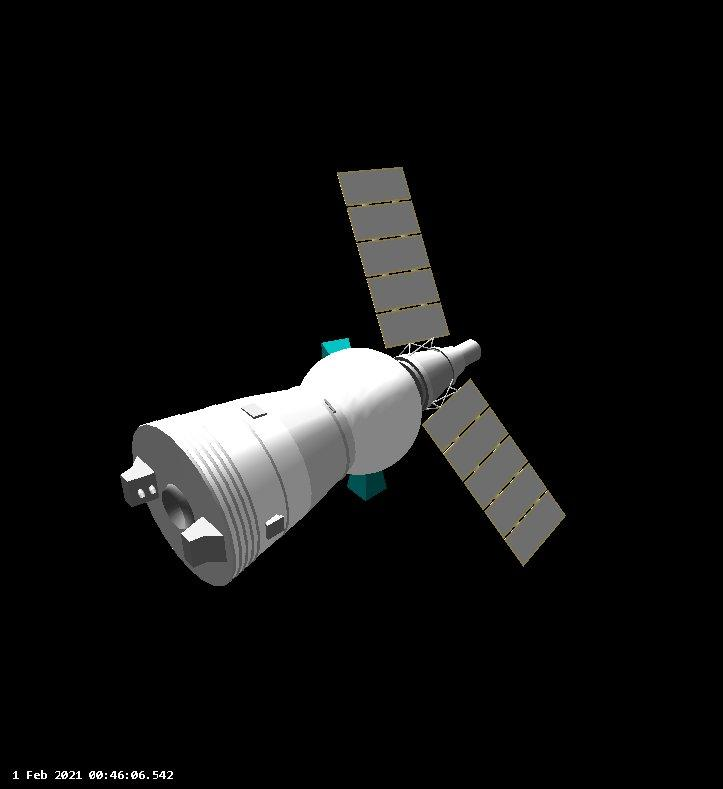body: (129, 336, 483, 585)
solar: (418, 374, 569, 569), (334, 162, 454, 348)
thruster: (342, 467, 390, 502), (319, 334, 353, 362)
